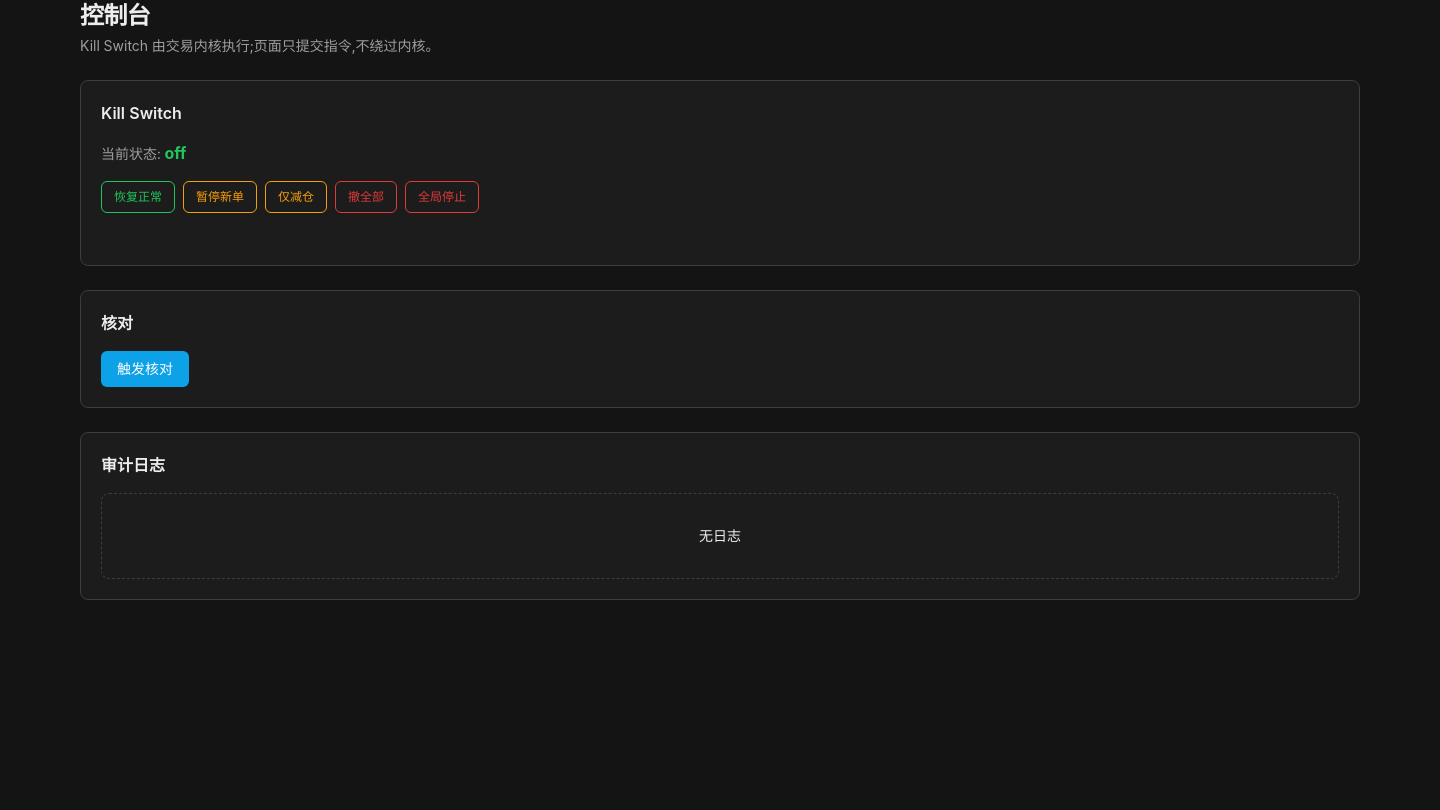
Scenario: Kill Switch 确认门 › 取消、X 关闭与 Escape 关闭均不产生状态变更请求
This screenshot has width=1440, height=810.
expect the text "off" is shown: met, box [164, 143, 186, 163]
Click the button "暂停新单".
click(220, 197)  # box [183, 181, 257, 213]
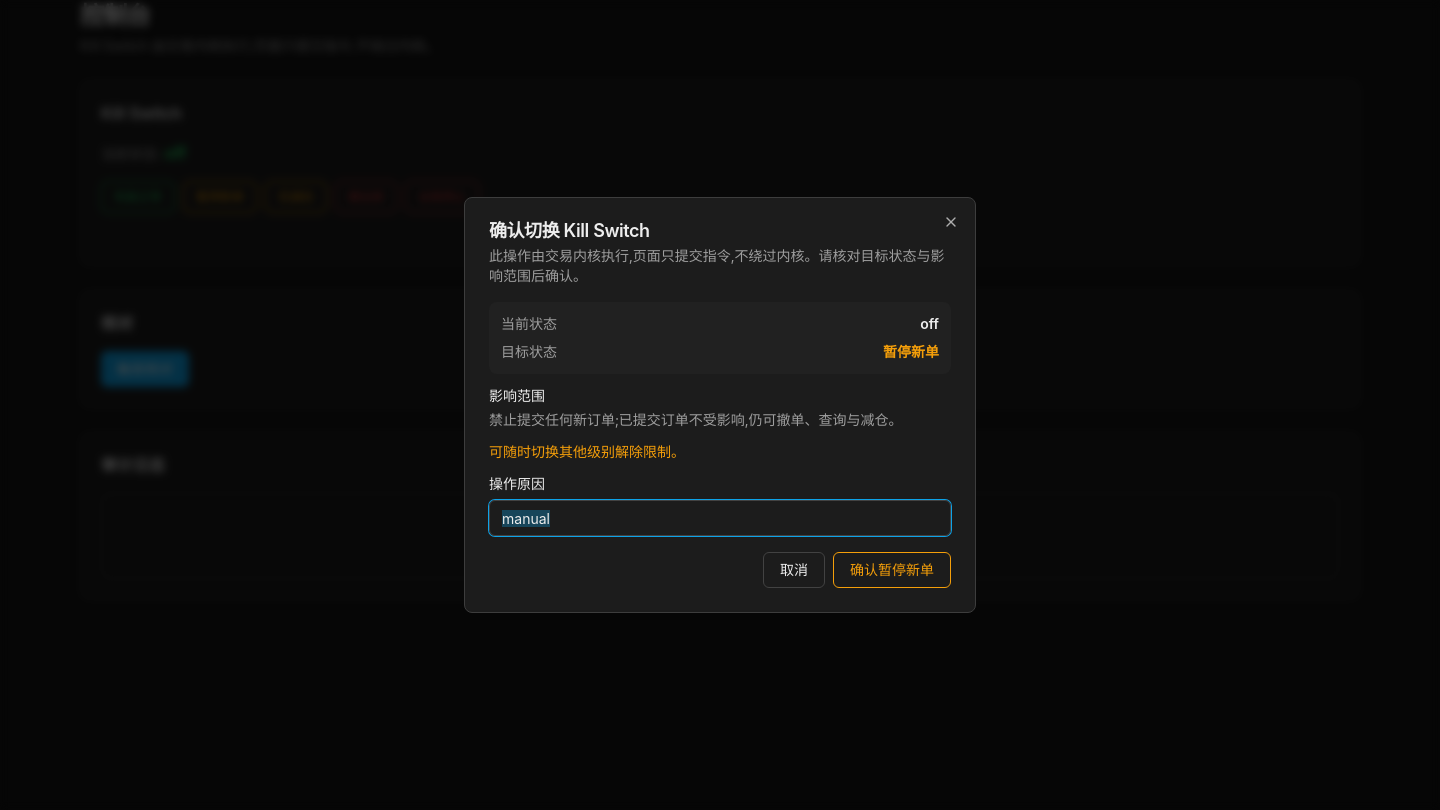
Click the button "取消".
click(794, 570)  # box [763, 552, 825, 588]
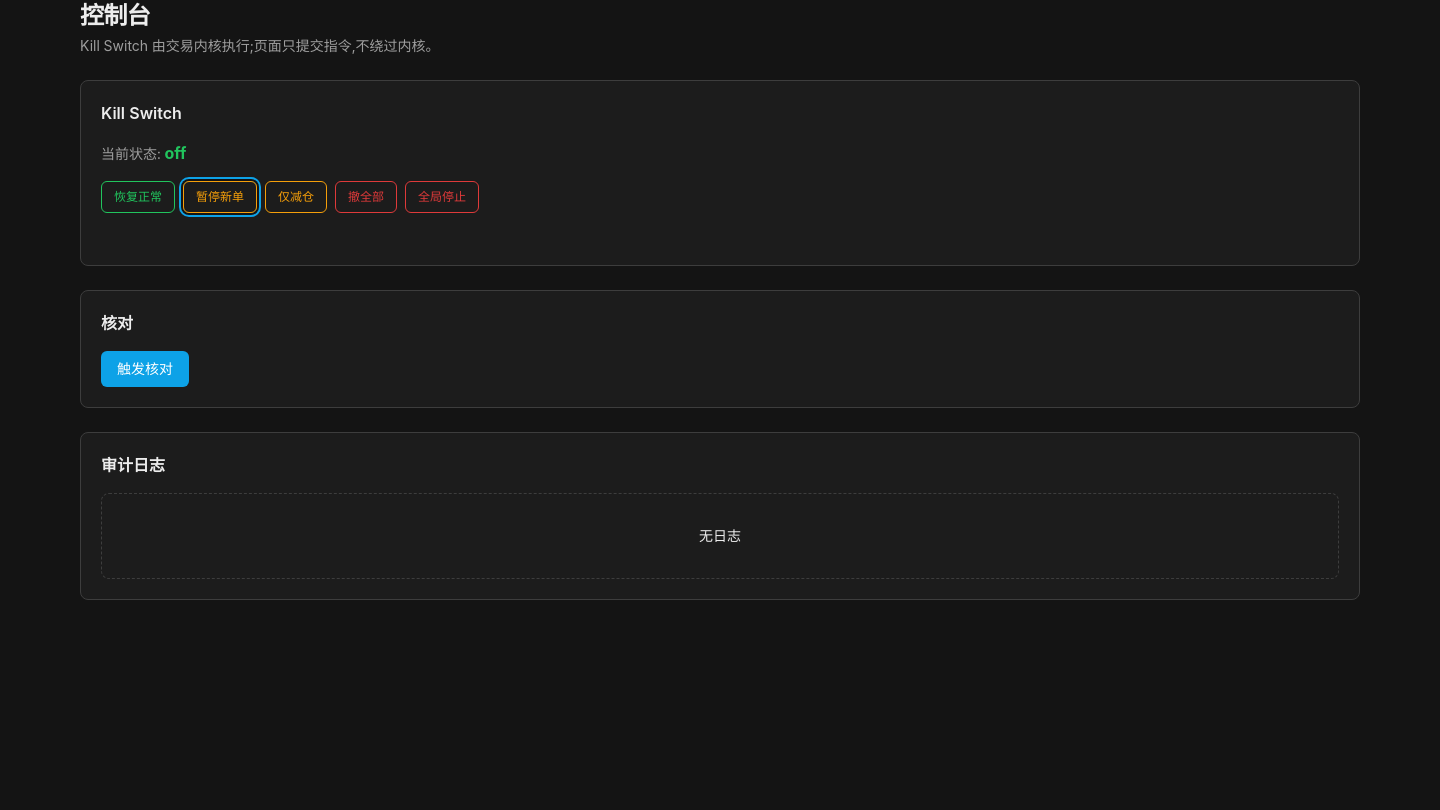
expect the dialog is gone: met
Click the button "仅减仓".
click(296, 197)  # box [265, 181, 327, 213]
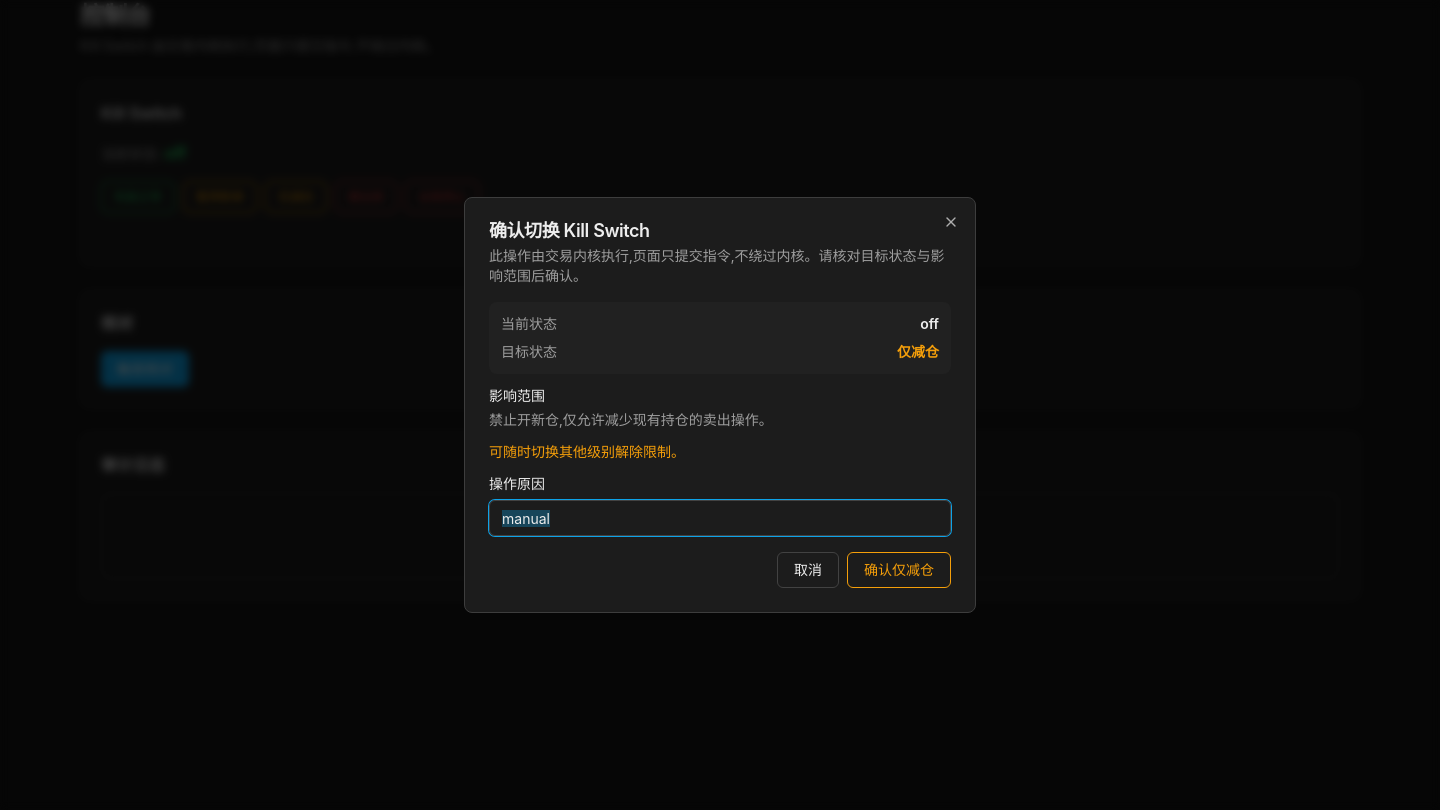
Click the button named "关闭".
click(951, 222)  # box [943, 214, 959, 230]
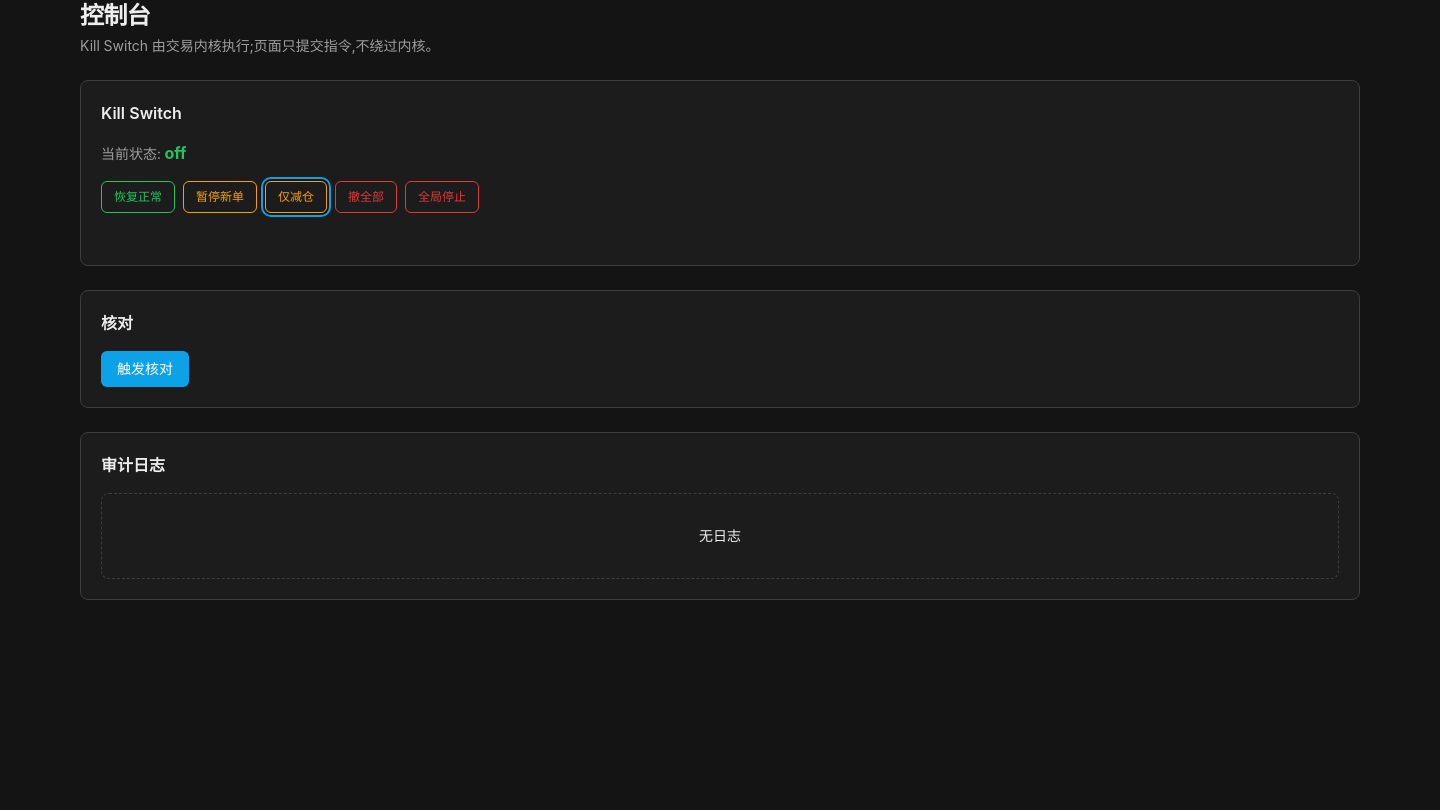
expect the dialog is gone: met
Click the button "撤全部".
click(366, 197)  # box [335, 181, 397, 213]
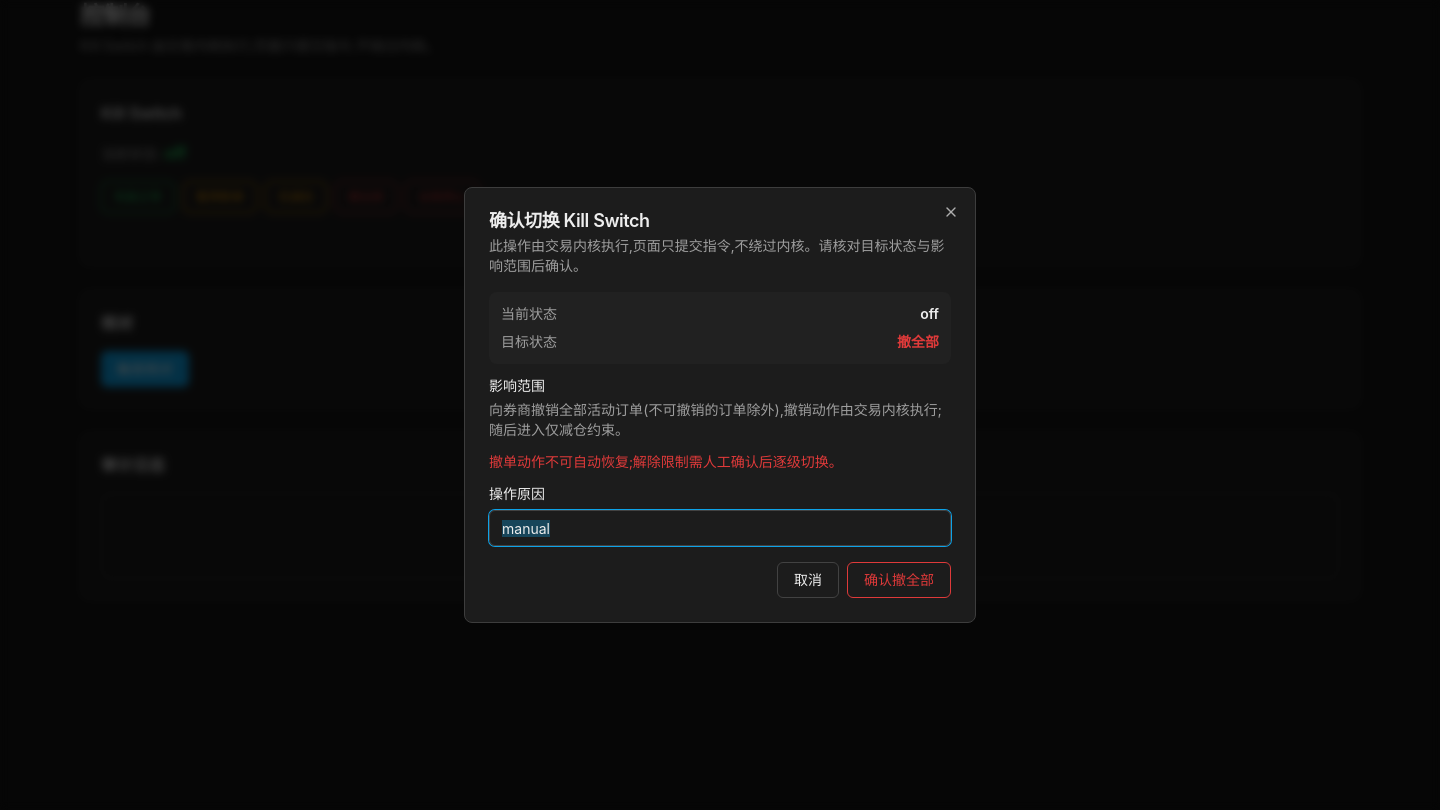
expect the dialog is shown: met, box [464, 187, 976, 623]
Press Escape
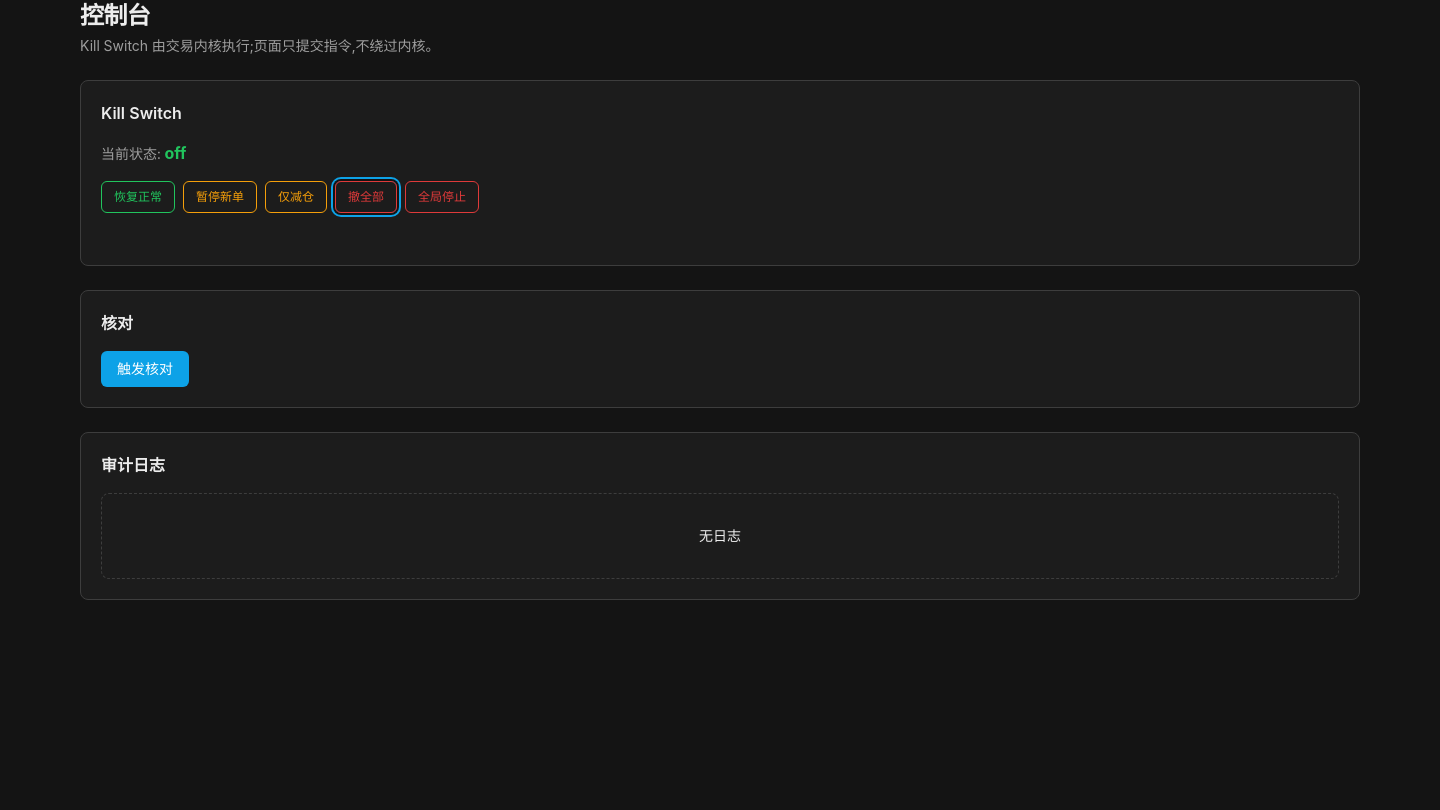
expect the dialog is gone: met
